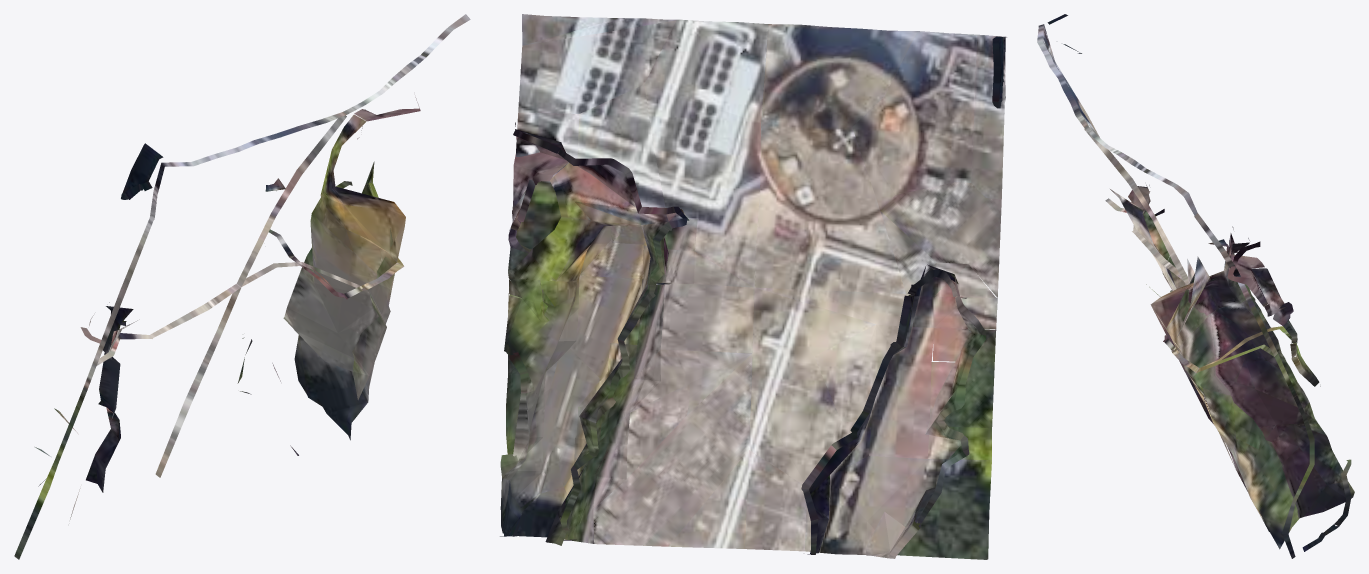
The model's file is AJVsH2yzZLXP_SaQN54vOJOamZrteXAk1jExzHN6RlJXIxWGLQ7Oa25N56Soj_y1mMeo9HGVdnKISgQTar_ZY4N8NgM8oy6pGDH2EUw-kE4I1N9s9yAWgSljBlZyi35alLlK8EwtXlvB8wKFRVHbIlXOqmNI.glb.
3 renders of one model, left to right at view 1: azimuth 30°, elevation 25°; view 2: azimuth 150°, elevation 25°; view 3: azimuth 270°, elevation 25°, orthographic. The views are drawn at different scales.
Bounding box in the file's own units: 38.81 × 38.96 × 27.7.
Materials: 2 (2 with a texture image).
